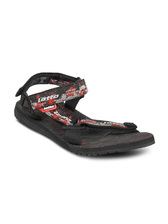shoes: (14, 69, 160, 156)
